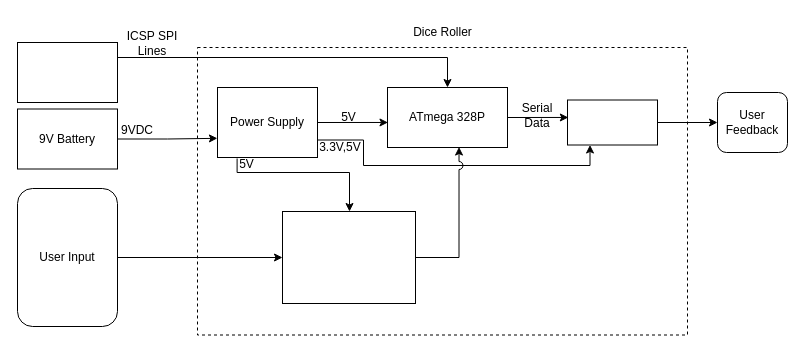
Some shapes in this 805 by 352 pixel diagram are drawn without their labels. The centre of each missing label's shape, as x and y in pixels:
"Buttons & Switches" belongs at [349,257].
"In-Circuit Serial Programmer" belongs at [67,72].
"LCD" belongs at [612,122].
